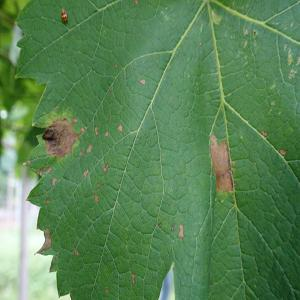Folha: (14, 0, 299, 299)
Fungo: (41, 116, 80, 159), (209, 134, 235, 192), (38, 223, 55, 255), (36, 165, 52, 176), (178, 222, 184, 238), (102, 162, 108, 173), (260, 129, 268, 137), (23, 159, 31, 167), (83, 168, 89, 178), (86, 143, 92, 153), (279, 148, 287, 155), (117, 123, 123, 132), (51, 177, 57, 186), (94, 192, 99, 202), (45, 166, 52, 173), (131, 272, 135, 284), (94, 125, 98, 136), (139, 78, 145, 85), (170, 222, 174, 232), (45, 195, 49, 204), (74, 248, 78, 256), (104, 130, 108, 138), (252, 28, 256, 36), (79, 149, 83, 157), (157, 221, 162, 227), (96, 181, 100, 188)
